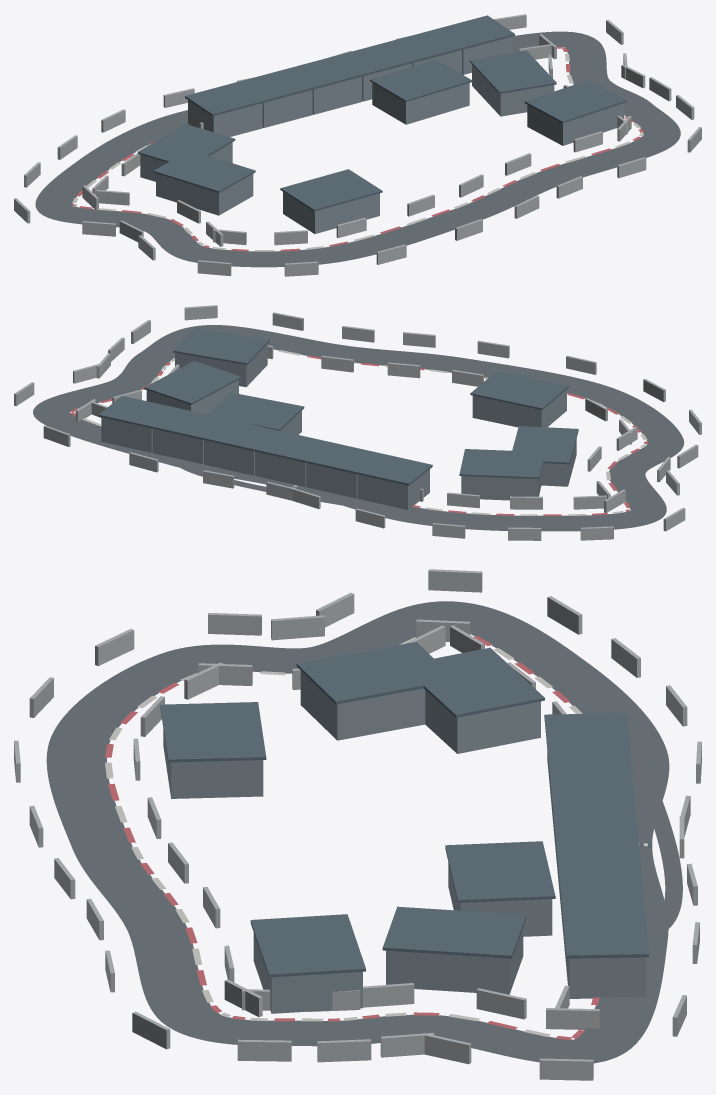
3 views of the same model, one above another, from view 1: azimuth 30°, elevation 25°; view 2: azimuth 150°, elevation 25°; view 3: azimuth 270°, elevation 25° (orthographic). The views are drawn at different scales.
Visible parts, largest first — view 1: asphalt, grandstand_roof_2, grandstand_roof_3, grandstand_roof_0, grandstand_roof_1, grandstand_roof_5, grandstand_0, grandstand_4, grandstand_3, grandstand_2, grandstand_roof_4, pit_building_0 (+22 smaller); view 2: asphalt, grandstand_roof_3, grandstand_roof_1, grandstand_roof_2, grandstand_roof_4, grandstand_roof_0, grandstand_roof_5, grandstand_3, pit_building_0, grandstand_5, pit_roof_0, pit_roof_3 (+34 smaller); view 3: asphalt, grandstand_roof_1, grandstand_roof_4, grandstand_roof_2, grandstand_roof_0, grandstand_roof_3, grandstand_roof_5, grandstand_1, grandstand_4, grandstand_5, pit_roof_5, grandstand_3 (+26 smaller).
Boxes of the visible parts, bbox=[...] form: asphalt: bbox=[35, 31, 680, 267]; grandstand_roof_2: bbox=[524, 80, 626, 123]; grandstand_roof_3: bbox=[280, 169, 382, 211]; grandstand_roof_0: bbox=[370, 59, 472, 101]; grandstand_roof_1: bbox=[469, 50, 556, 93]; grandstand_roof_5: bbox=[138, 124, 235, 166]; grandstand_0: bbox=[372, 83, 469, 124]; grandstand_4: bbox=[156, 173, 253, 215]; grandstand_3: bbox=[283, 192, 379, 233]; grandstand_2: bbox=[527, 103, 624, 145]; grandstand_roof_4: bbox=[153, 155, 255, 192]; pit_building_0: bbox=[188, 100, 262, 136]; asphalt: bbox=[33, 325, 684, 531]; grandstand_roof_3: bbox=[470, 370, 569, 409]; grandstand_roof_1: bbox=[144, 361, 241, 404]; grandstand_roof_2: bbox=[173, 327, 269, 364]; grandstand_roof_4: bbox=[510, 426, 578, 464]; grandstand_roof_0: bbox=[207, 392, 304, 430]; grandstand_roof_5: bbox=[459, 449, 542, 478]; grandstand_3: bbox=[472, 389, 566, 427]; pit_building_0: bbox=[357, 469, 429, 509]; grandstand_5: bbox=[461, 472, 541, 500]; pit_roof_0: bbox=[354, 453, 432, 485]; pit_roof_3: bbox=[201, 418, 278, 451]; asphalt: bbox=[46, 601, 669, 1063]; grandstand_roof_1: bbox=[382, 906, 526, 958]; grandstand_roof_4: bbox=[296, 641, 454, 704]; grandstand_roof_2: bbox=[250, 914, 365, 977]; grandstand_roof_0: bbox=[445, 841, 555, 902]; grandstand_roof_3: bbox=[160, 702, 266, 762]; grandstand_roof_5: bbox=[407, 647, 544, 717]; grandstand_1: bbox=[386, 927, 523, 994]; grandstand_4: bbox=[300, 670, 425, 740]; grandstand_5: bbox=[425, 690, 540, 753]; pit_roof_5: bbox=[562, 912, 648, 958]; grandstand_3: bbox=[163, 729, 263, 798].
Size of the model in its own units: 60.64 by 2.64 by 35.8.
